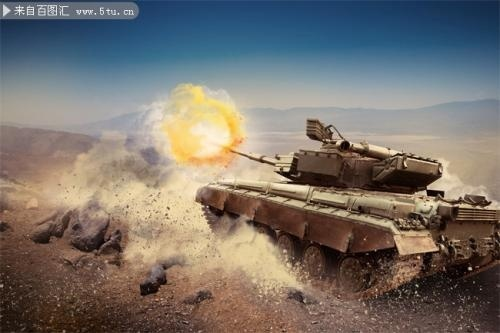fire: (144, 83, 246, 164)
